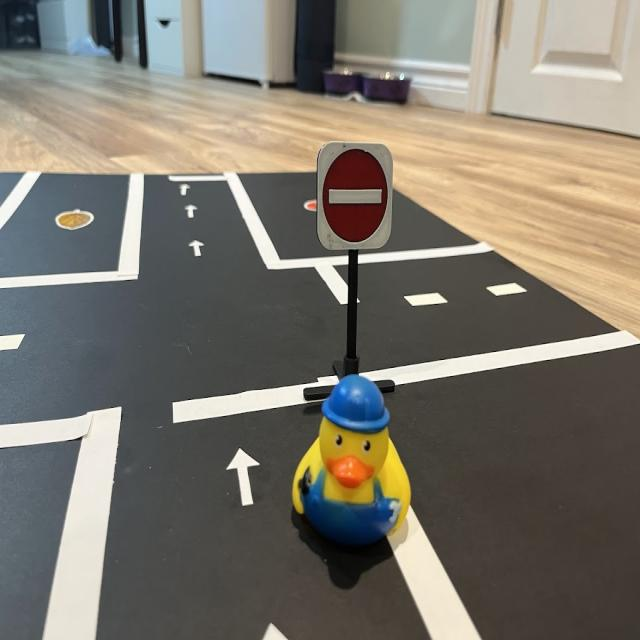duck_specialty: (293, 376, 416, 546)
road_oneway: (223, 438, 264, 516), (185, 233, 207, 262), (184, 201, 202, 224), (177, 184, 194, 202)
sign_noentry: (317, 141, 394, 253)
